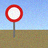sign: (5, 4, 23, 37)
